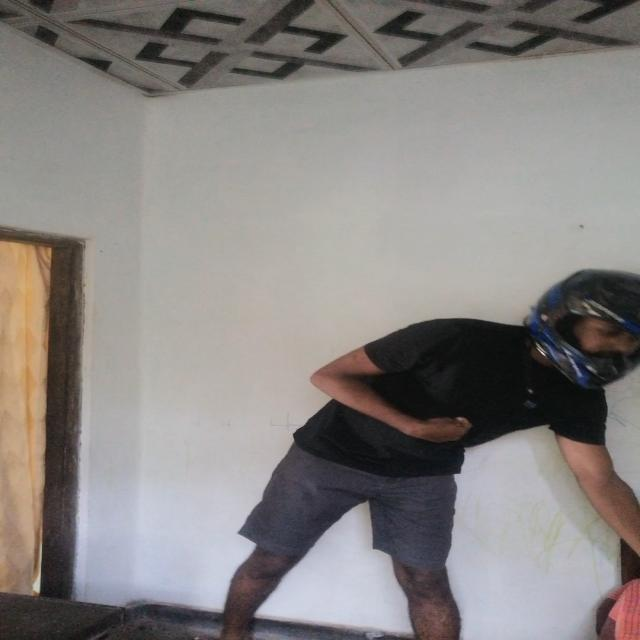Helmet_Wearer: (511, 265, 640, 387)
Person: (225, 280, 640, 640)
